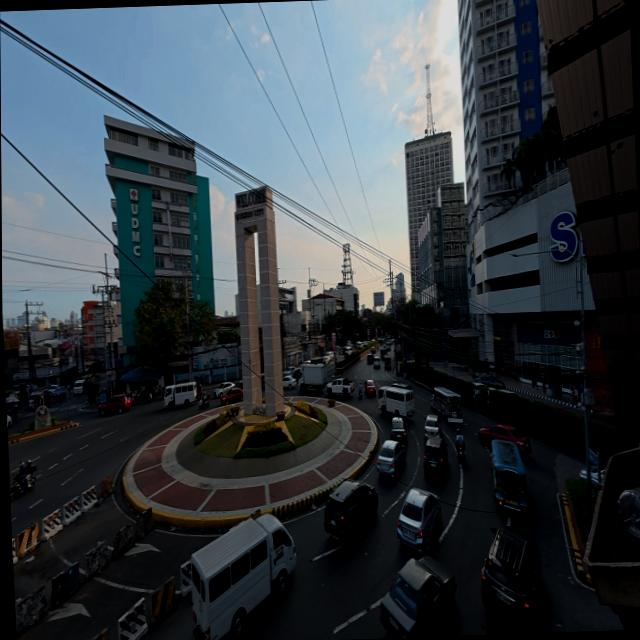car: (374, 550, 457, 638), (393, 488, 442, 556), (375, 438, 409, 480), (97, 392, 133, 414), (214, 381, 243, 405), (389, 416, 409, 440)
trucks: (326, 376, 354, 398)
vans: (177, 509, 297, 640), (161, 380, 200, 406)
